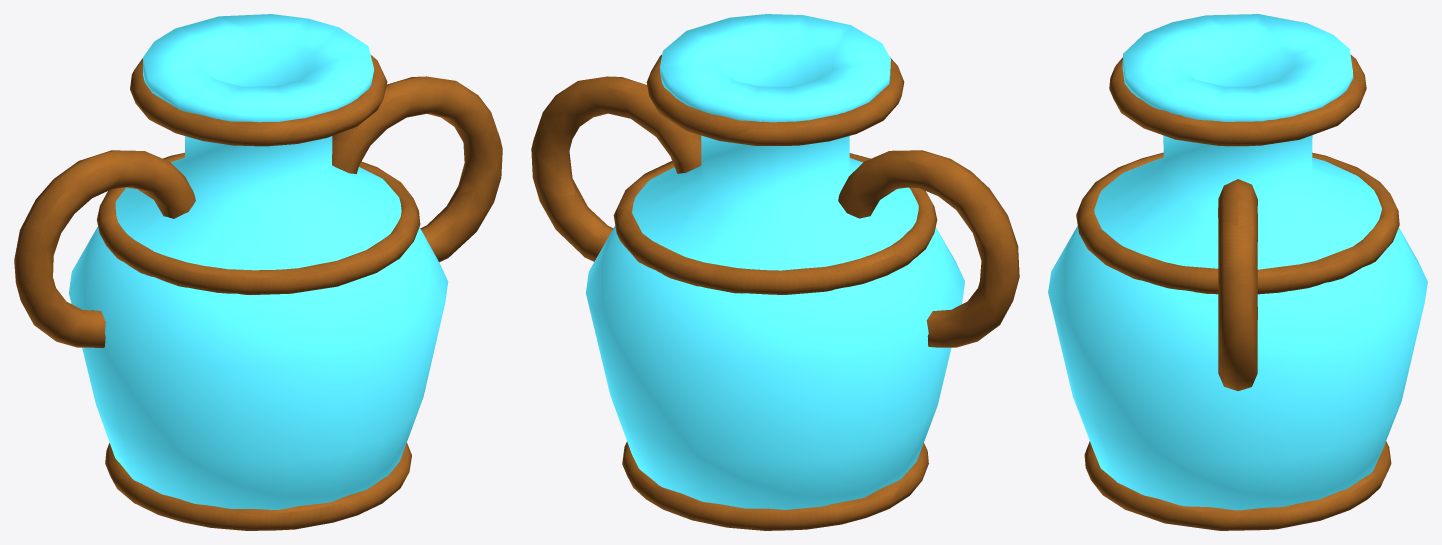
The model's file is relic_11_low.glb.
The picture shows the model from 3 angles, left to right: view 1: azimuth 30°, elevation 25°; view 2: azimuth 150°, elevation 25°; view 3: azimuth 270°, elevation 25°; orthographic projection.
Parts seen in each view (by area): view 1: Luminous_aquamarine, Brushed_gold; view 2: Luminous_aquamarine, Brushed_gold; view 3: Luminous_aquamarine, Brushed_gold.
Part boxes in pixels (x1,y1,x2,y2): Luminous_aquamarine: [69, 14, 448, 509]; Brushed_gold: [14, 55, 502, 530]; Luminous_aquamarine: [586, 14, 964, 509]; Brushed_gold: [531, 55, 1019, 530]; Luminous_aquamarine: [1048, 14, 1427, 510]; Brushed_gold: [1076, 55, 1399, 530].
Size of the model in its own units: 0.6772 by 0.56 by 0.46.
Materials: 2 (1 with a texture image).
